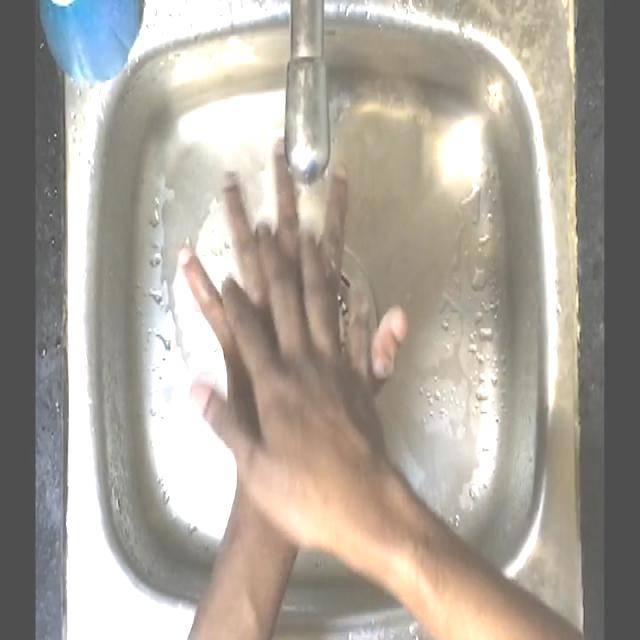step_2: (165, 125, 416, 480)
